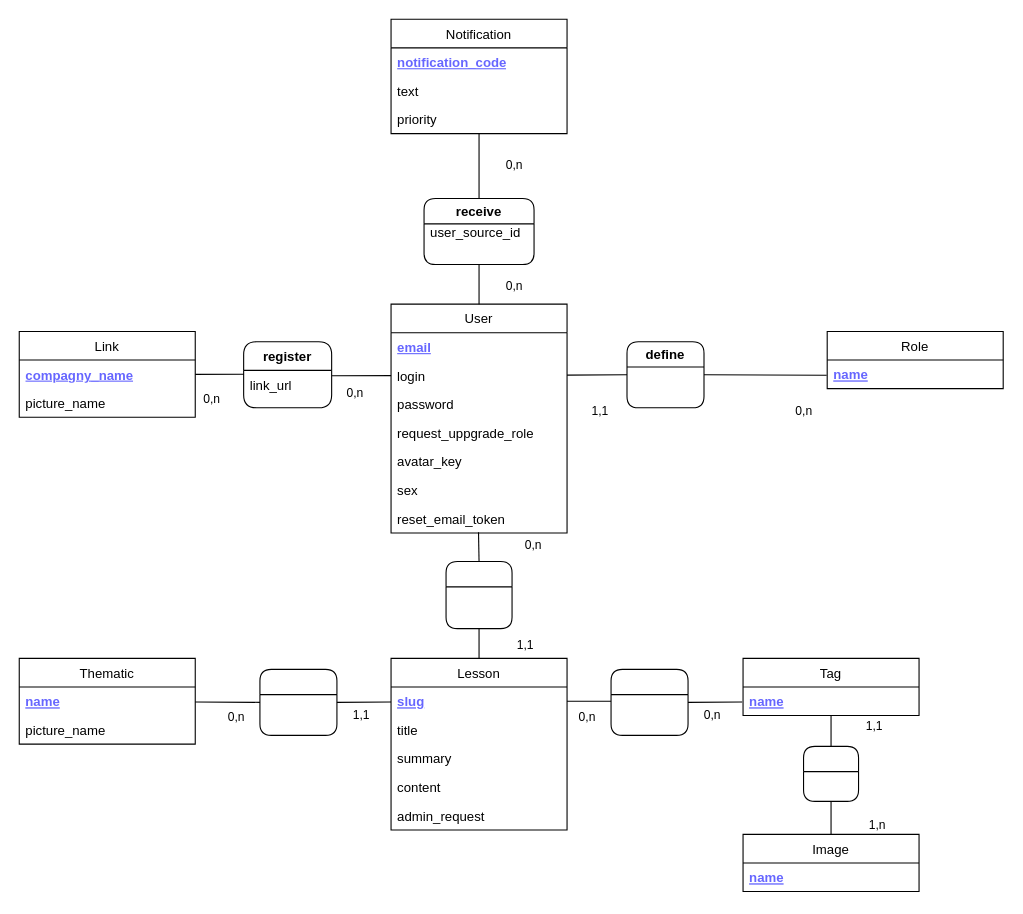
Image size: 1023x914. Some labels were removed from this diagram. The shapes that lost their labels are listed below. From the top down, each one's centre as x and y in pixels, then its label:
At [478,594]: "write".
At [298,701]: "has".
At [649,701]: "belong".
At [830,773]: "D.F".
